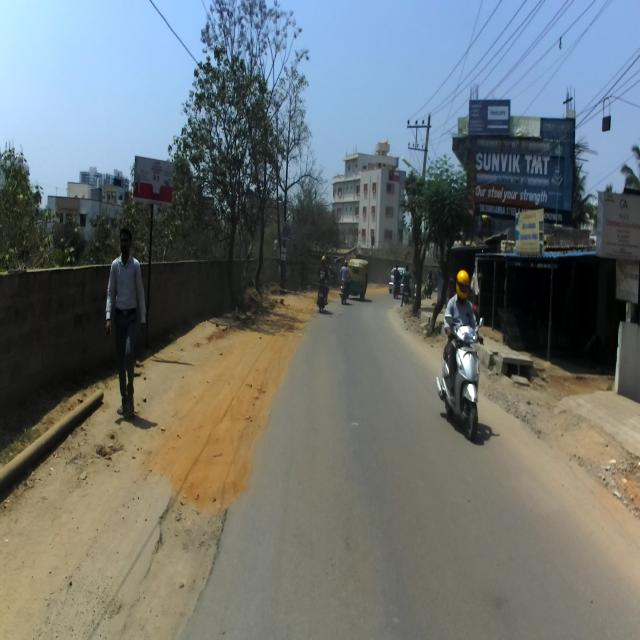motorcycle ahead at: (438, 318, 483, 438)
person ahead at: (106, 224, 150, 418)
tree ahead at: (192, 62, 268, 311)
